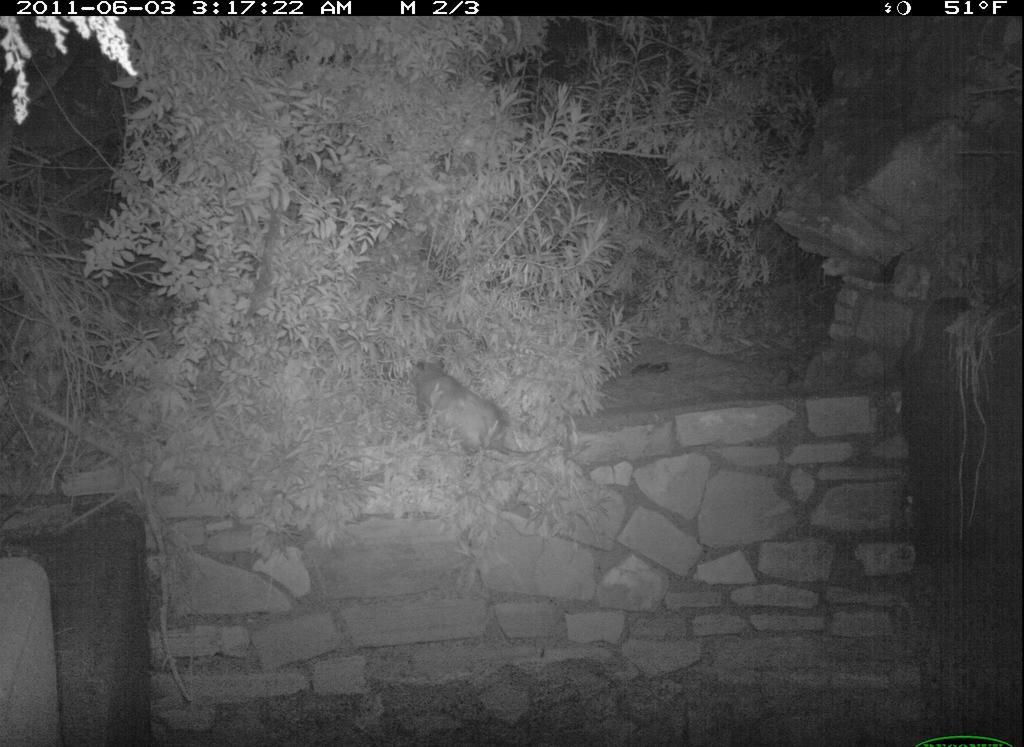opossum: (405, 350, 548, 472)
